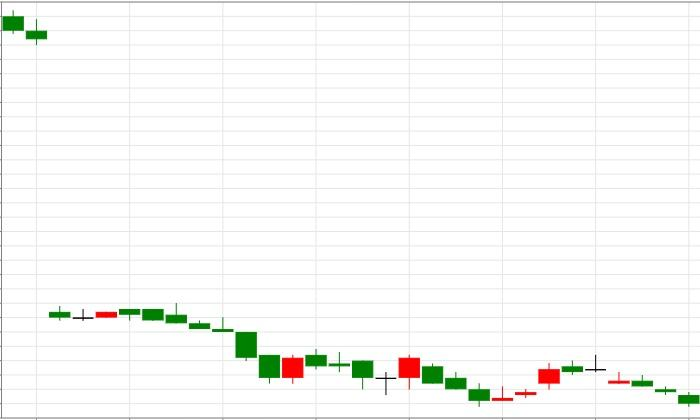morning_star_rise: (305, 348, 420, 395)
